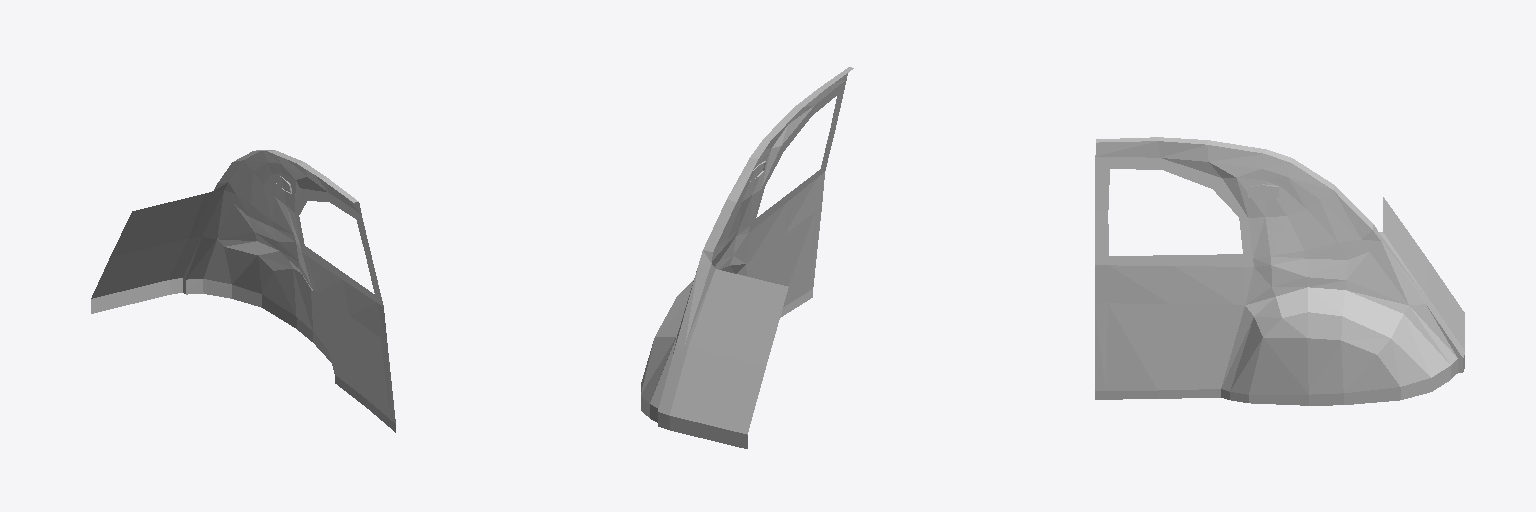
The model's file is bodyHalf_Back.obj.
3 views of the same model, side by side, from view 1: azimuth 30°, elevation 25°; view 2: azimuth 150°, elevation 25°; view 3: azimuth 270°, elevation 25° (orthographic).
Parts seen in each view (by area): view 1: Plane.004; view 2: Plane.004; view 3: Plane.004.
Boxes of the visible parts, <box> form: Plane.004: <box>91,150,395,432</box>; Plane.004: <box>641,67,853,448</box>; Plane.004: <box>1095,137,1464,405</box>.
Size of the model in its own units: 0.7771 by 1.24 by 1.72.